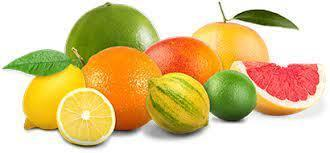lemon: (22, 64, 86, 130), (56, 88, 116, 146)
